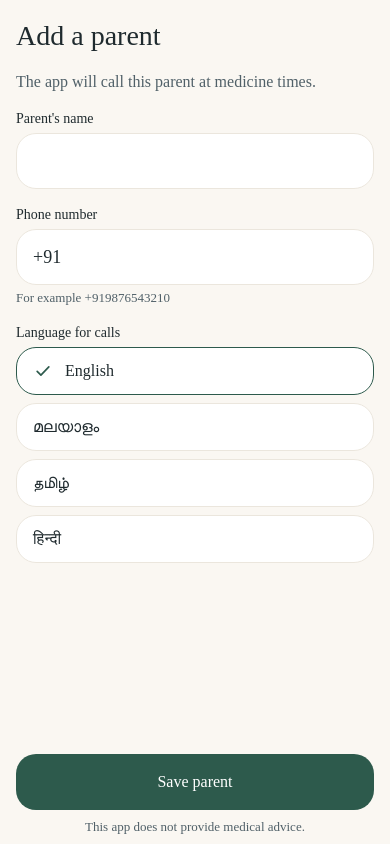
Test: AddParentScreen › shows a failure message and logs only the code when createParent rejects
The image size is (390, 844).
Type "Amma" into the field with test id "add-name".
click(195, 161); type("Amma")  # box [16, 133, 374, 189]
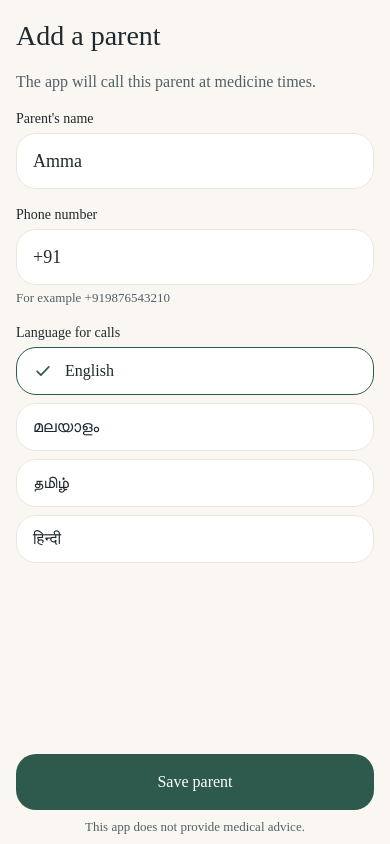
Replace the text in the field with test id "add-phone" with "+919876543210" at (195, 257), box [16, 229, 374, 285]
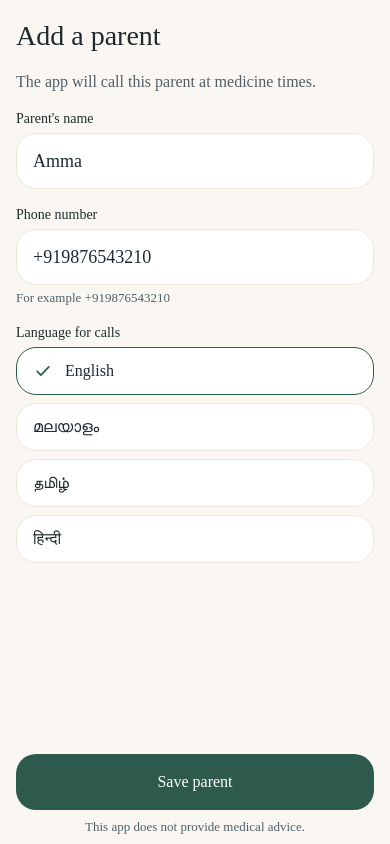
Click the button with test id "add-save".
click(195, 782)  # box [16, 754, 374, 810]
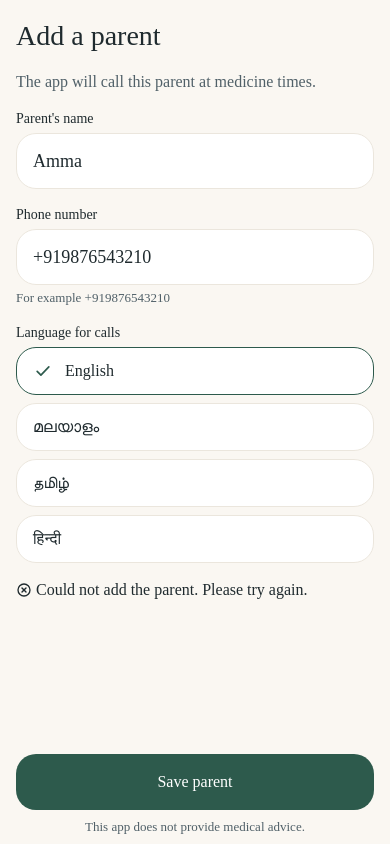
Now the text "Could not add the parent. Please try again." is shown, box [36, 579, 308, 601]
